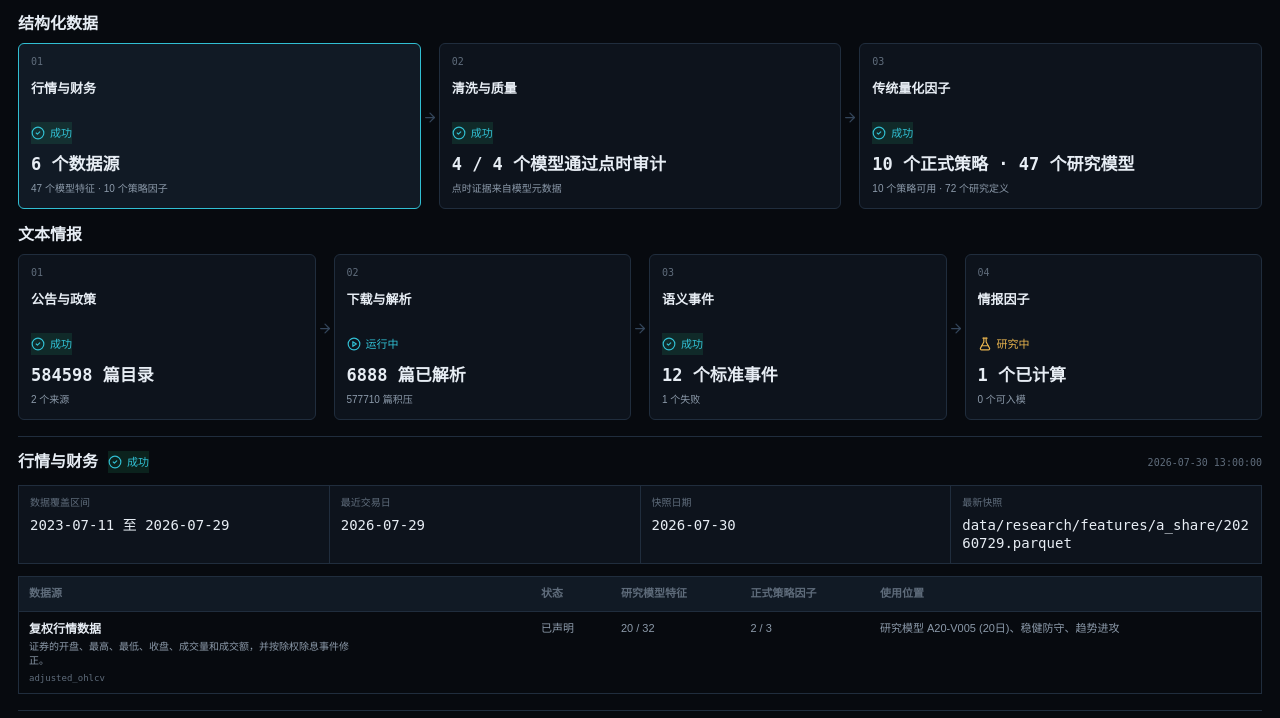
DataIntelligencePage › renders operational states and recommendations in Chinese
Expected: the text "已声明" is shown, [531,611,611,693]
Click the button "02 清洗与质量 成功 4 / 4 个模型通过点时审计 点时证据来自模型元数据".
click(484, 88)  # box [439,43,841,209]
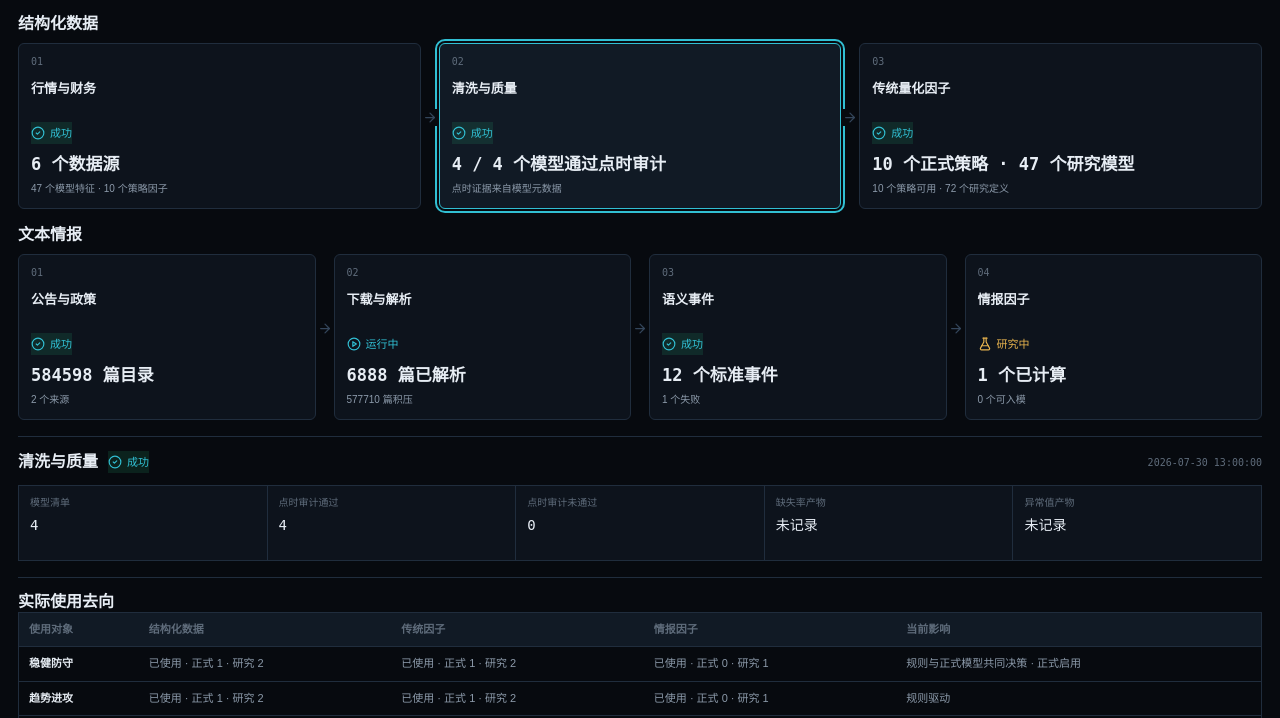
Click the button "01 公告与政策 成功 584598 篇目录 2 个来源".
click(64, 300)  # box [18,254,316,420]
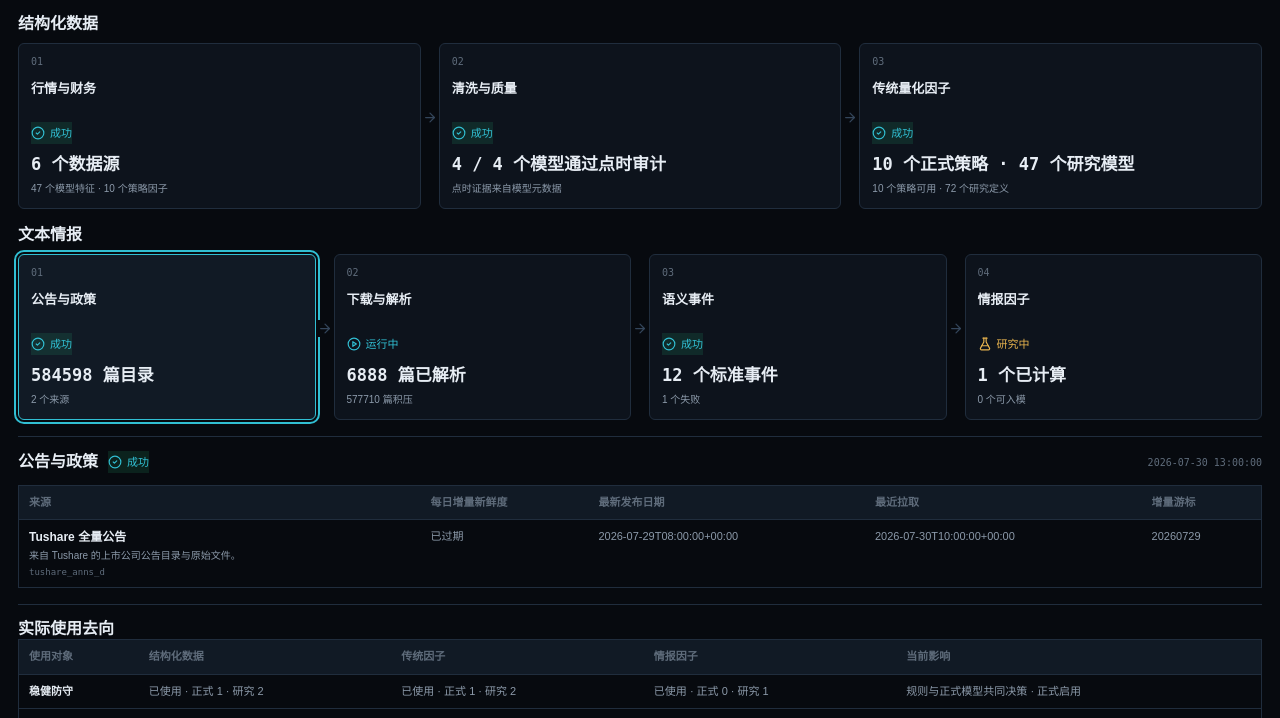
Expected: the text "已过期" is shown, [420,520,588,587]
Click the button "02 下载与解析 运行中 6888 篇已解析 577710 篇积压".
click(379, 300)  # box [334,254,631,420]
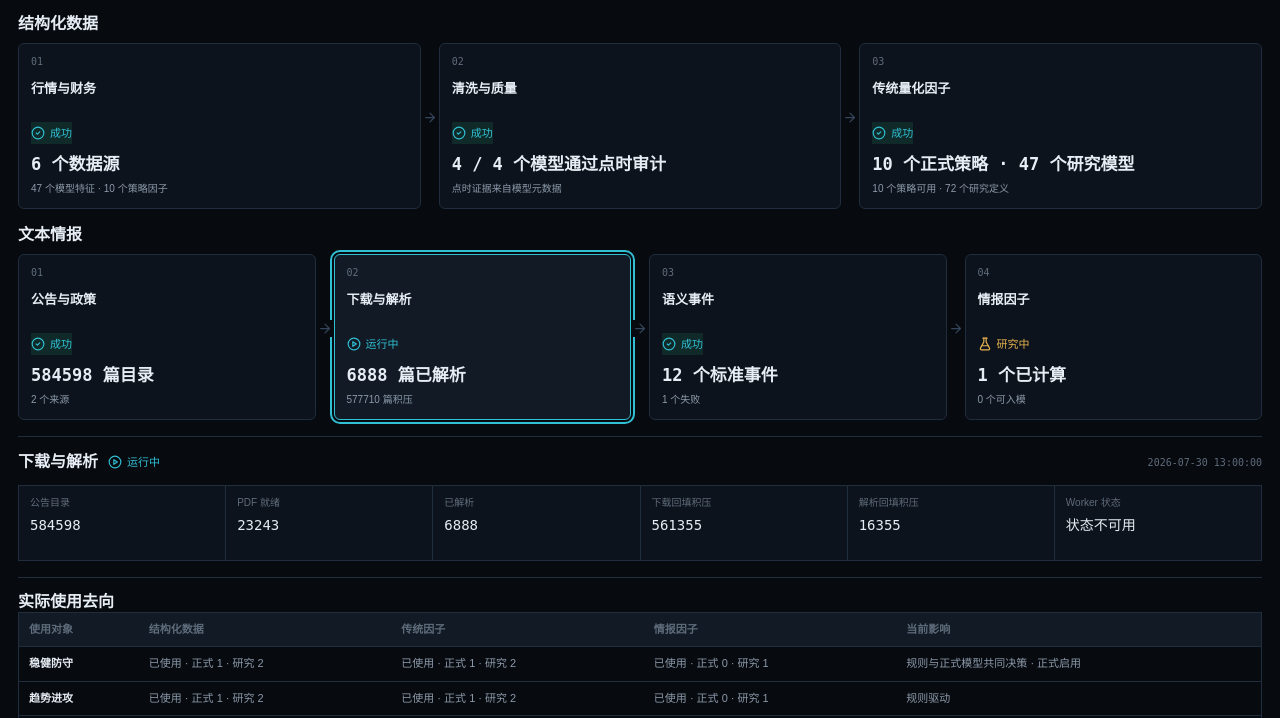
Expected: the text "状态不可用" is shown, [1066,516,1136,532]
Click the button "04 情报因子 研究中 1 个已计算 0 个可入模".
click(1004, 300)  # box [964,254,1262,420]
(page scrolled)
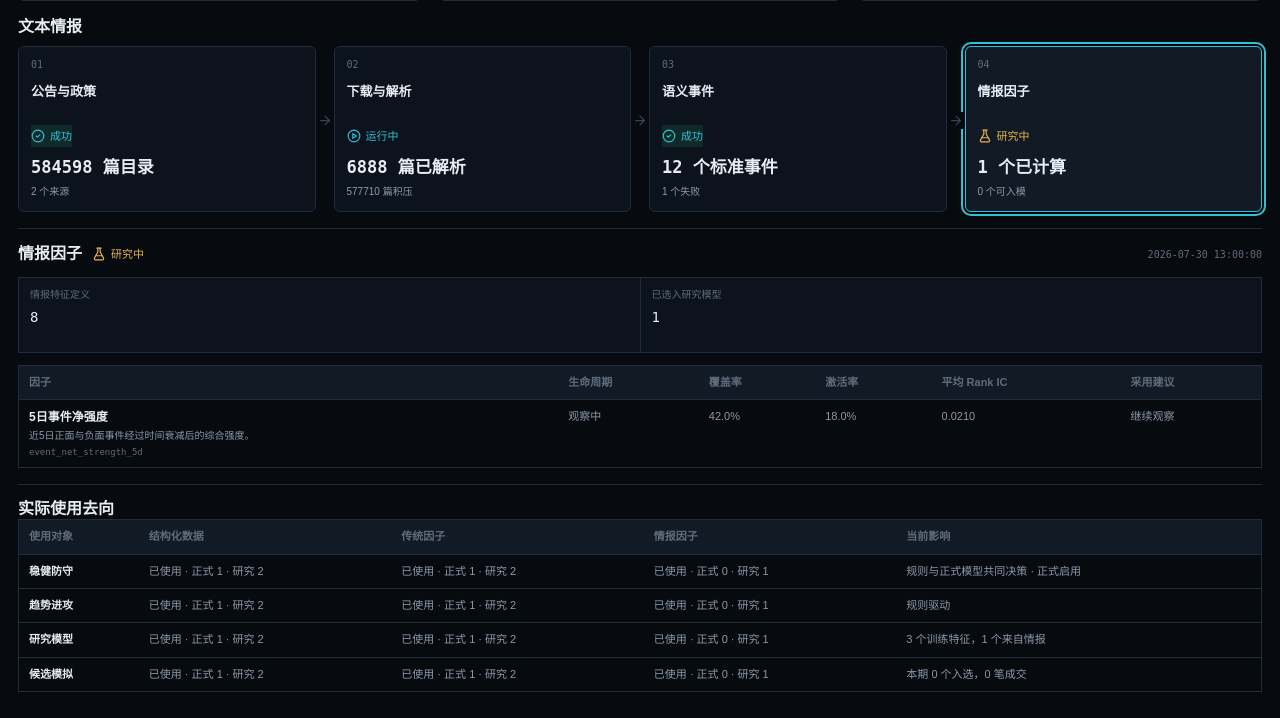
Expected: the text "规则与正式模型共同决策 · 正式启用" is shown, [896,554,1261,588]
Expected: the text "观察中" is shown, [558,400,699,467]
Expected: the text "继续观察" is shown, [1120,400,1261,467]
